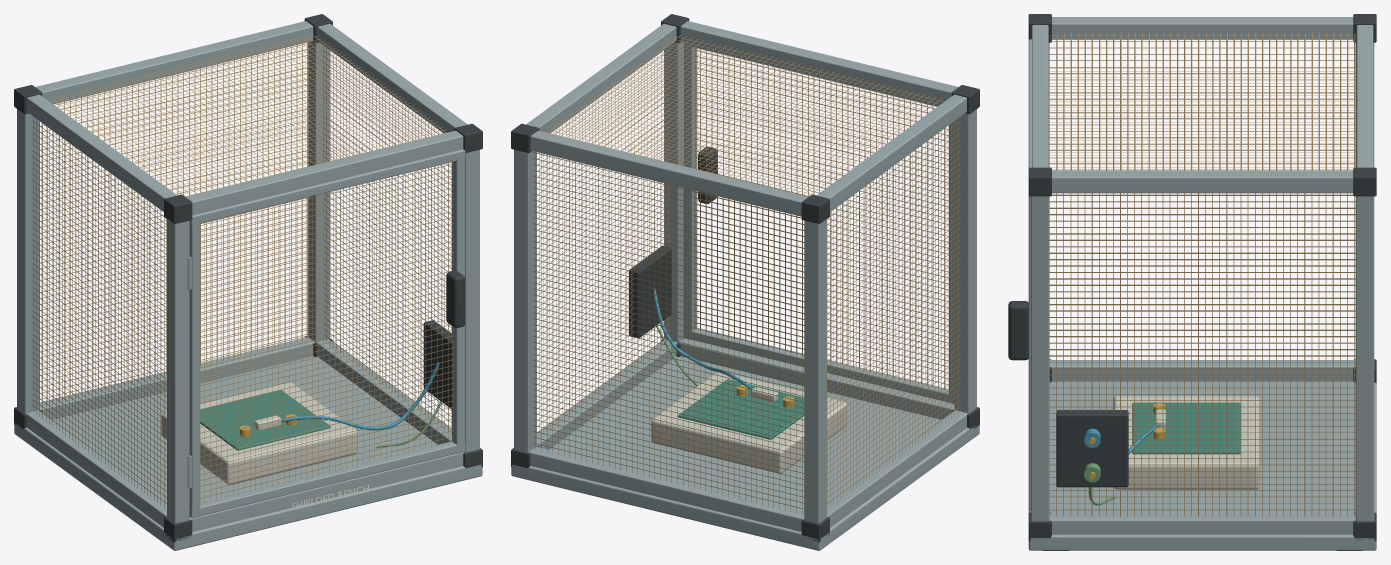
Rendered from shielded-bench.glb.
3 views of the same model, side by side, from view 1: azimuth 30°, elevation 25°; view 2: azimuth 150°, elevation 25°; view 3: azimuth 270°, elevation 25° (orthographic). The views are drawn at different scales.
Visible parts, largest first — view 1: Rear_mesh, Door_mesh, Base_plate, Side_mesh_-282, Roof_mesh, Side_mesh_282, Post_-282252, Inert_probe_fixture, Post_-282-252, Post_282252, Cross_rail_252633, Cross_rail_-252633 (+17 smaller); view 2: Rear_mesh, Base_plate, Door_mesh, Side_mesh_-282, Roof_mesh, Side_mesh_282, Inert_probe_fixture, Post_-282252, Post_282252, Post_-282-252, Cross_rail_252633, Cross_rail_-252633 (+17 smaller); view 3: Side_mesh_282, Base_plate, Side_mesh_-282, Roof_mesh, Side_rail_282633, Inert_probe_fixture, Side_rail_-282633, Side_rail_28246, Post_282252, Side_rail_-28246, Post_282-252, Feedthrough_plate (+11 smaller).
Boxes of the visible parts, <box> form: Rear_mesh: <box>40,42,311,404</box>; Door_mesh: <box>200,163,453,503</box>; Base_plate: <box>14,356,482,550</box>; Side_mesh_-282: <box>32,117,166,507</box>; Roof_mesh: <box>46,34,449,196</box>; Side_mesh_282: <box>323,46,451,434</box>; Post_-282252: <box>17,109,39,413</box>; Inert_probe_fixture: <box>161,382,357,484</box>; Post_-282-252: <box>167,219,189,523</box>; Post_282252: <box>307,41,329,342</box>; Cross_rail_252633: <box>35,21,313,103</box>; Cross_rail_-252633: <box>185,130,463,215</box>; Rear_mesh: <box>532,152,804,514</box>; Base_plate: <box>511,356,979,550</box>; Door_mesh: <box>695,48,948,389</box>; Side_mesh_-282: <box>827,119,961,509</box>; Roof_mesh: <box>544,34,943,196</box>; Side_mesh_282: <box>536,48,670,438</box>; Inert_probe_fixture: <box>651,372,847,473</box>; Post_-282252: <box>804,219,826,523</box>; Post_282252: <box>514,149,536,452</box>; Post_-282-252: <box>954,109,976,413</box>; Cross_rail_252633: <box>530,130,808,216</box>; Cross_rail_-252633: <box>680,21,958,104</box>; Side_mesh_282: <box>1049,193,1355,516</box>; Base_plate: <box>1028,381,1376,550</box>; Side_mesh_-282: <box>1049,39,1355,356</box>; Roof_mesh: <box>1050,32,1355,170</box>; Side_rail_282633: <box>1052,170,1353,193</box>; Inert_probe_fixture: <box>1113,396,1259,489</box>; Side_rail_-282633: <box>1052,17,1353,39</box>; Side_rail_28246: <box>1049,513,1355,534</box>; Post_282252: <box>1355,196,1374,521</box>; Side_rail_-28246: <box>1049,360,1355,380</box>; Post_282-252: <box>1031,196,1049,521</box>; Feedthrough_plate: <box>1056,410,1128,487</box>.
Bounding box in the file's own units: 0.613 × 0.65 × 0.5715.
